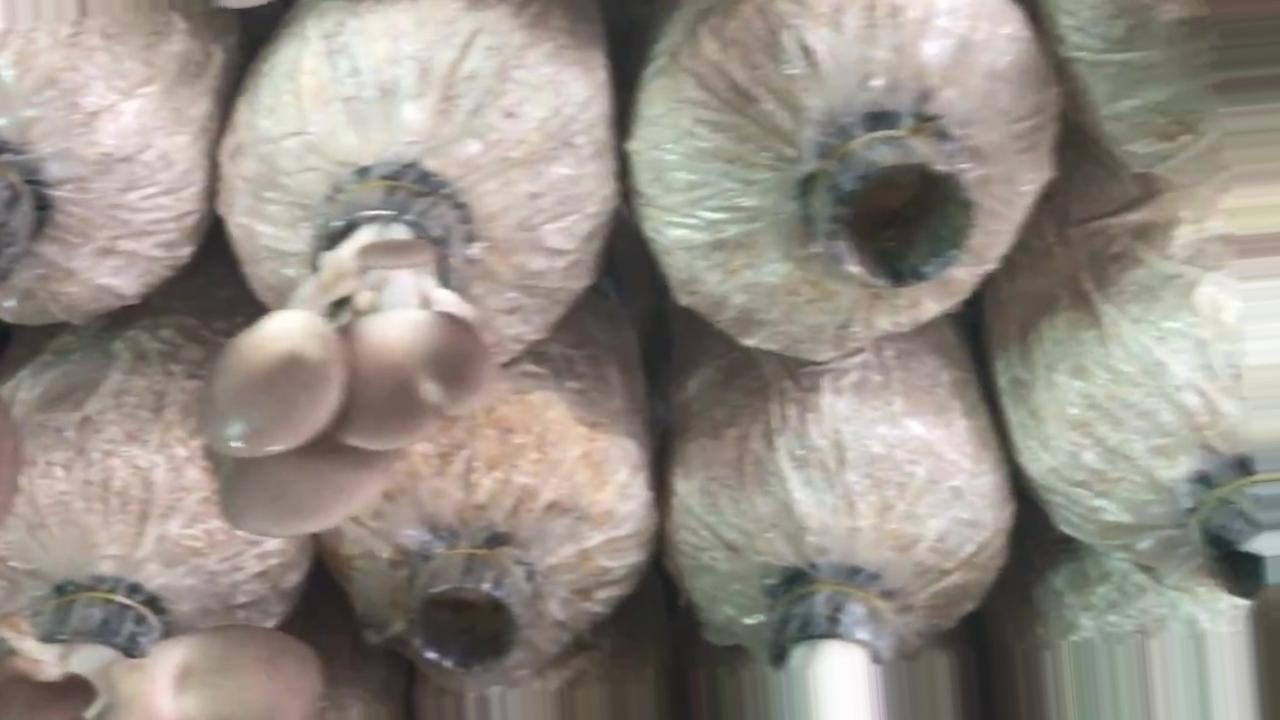nam: (191, 174, 506, 546)
